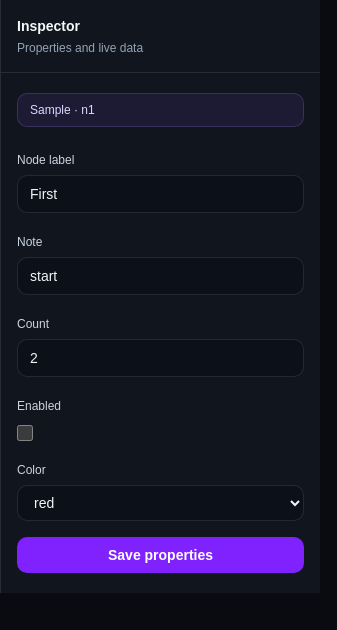
it: descriptor-driven inspector › does not accept a select value outside the descriptor options
Select "green" in the dropdown labelled "Color" at (160, 503), box x1=17 y1=485 x2=304 y2=521
Click the button "Save properties" at (160, 555), box x1=17 y1=537 x2=304 y2=573
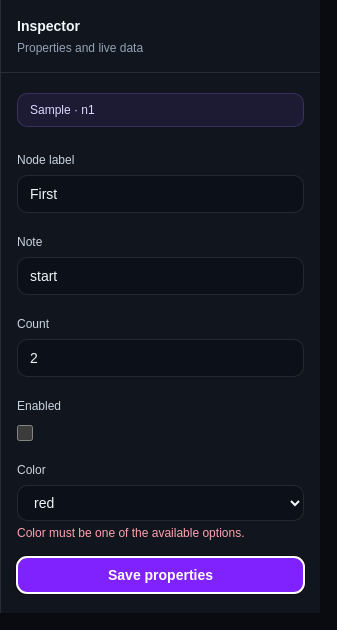
Check: the message reads "Color must be one of the available options.", box x1=17 y1=526 x2=244 y2=540
